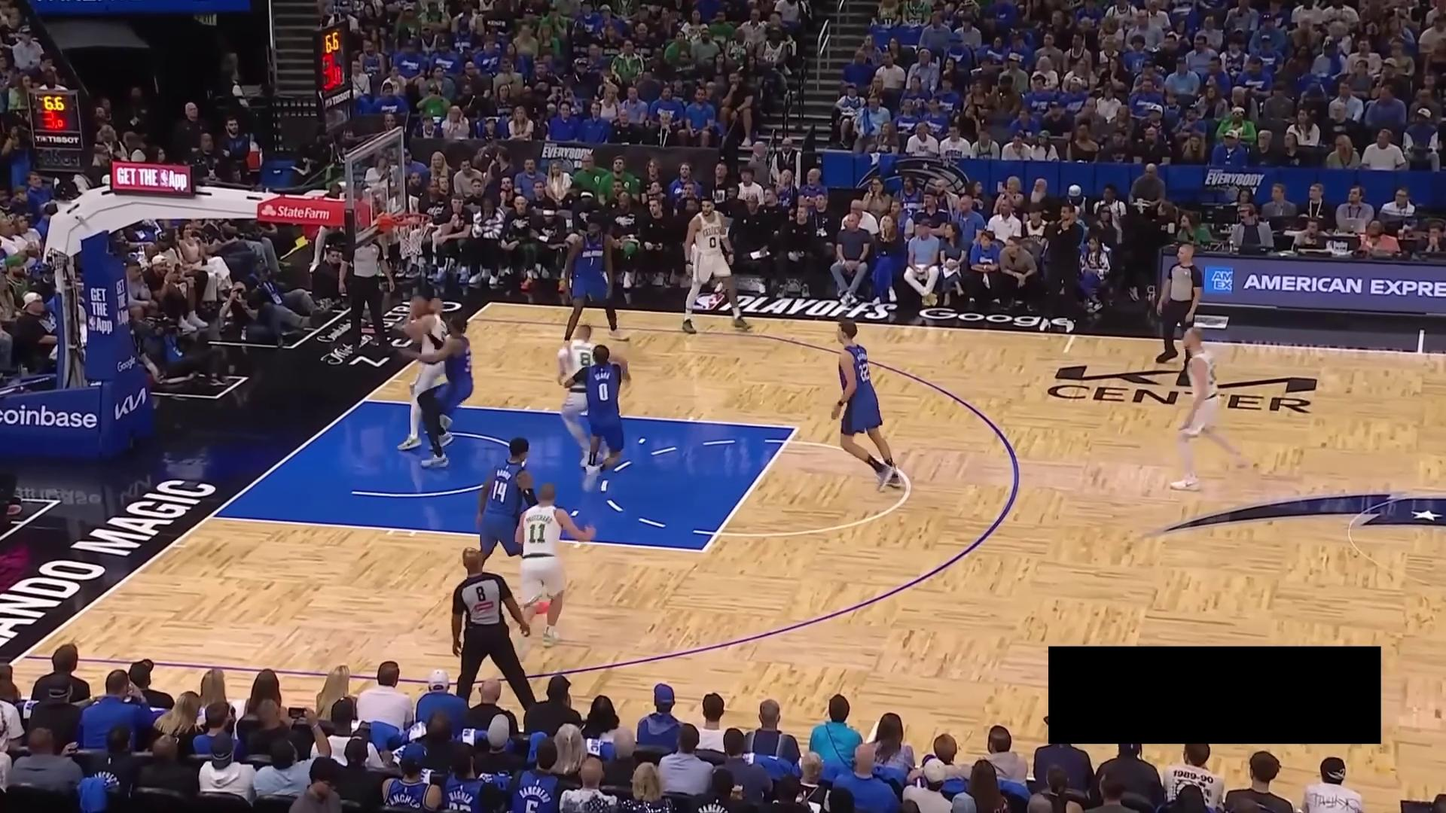ball: (409, 294, 428, 317)
number: (490, 480, 510, 504), (528, 522, 548, 546), (858, 362, 872, 382), (596, 383, 610, 402), (580, 352, 594, 367), (709, 237, 716, 248), (589, 257, 595, 266)
player: (1169, 323, 1257, 493), (390, 313, 478, 470), (516, 475, 594, 649), (832, 321, 904, 495), (566, 341, 637, 494), (682, 195, 754, 336), (557, 221, 631, 342), (477, 435, 538, 575), (556, 321, 612, 471)
player-in-possession: (395, 292, 462, 453)
referee: (450, 542, 541, 715), (337, 230, 401, 359), (1152, 240, 1205, 376)
rim: (393, 212, 432, 227)
